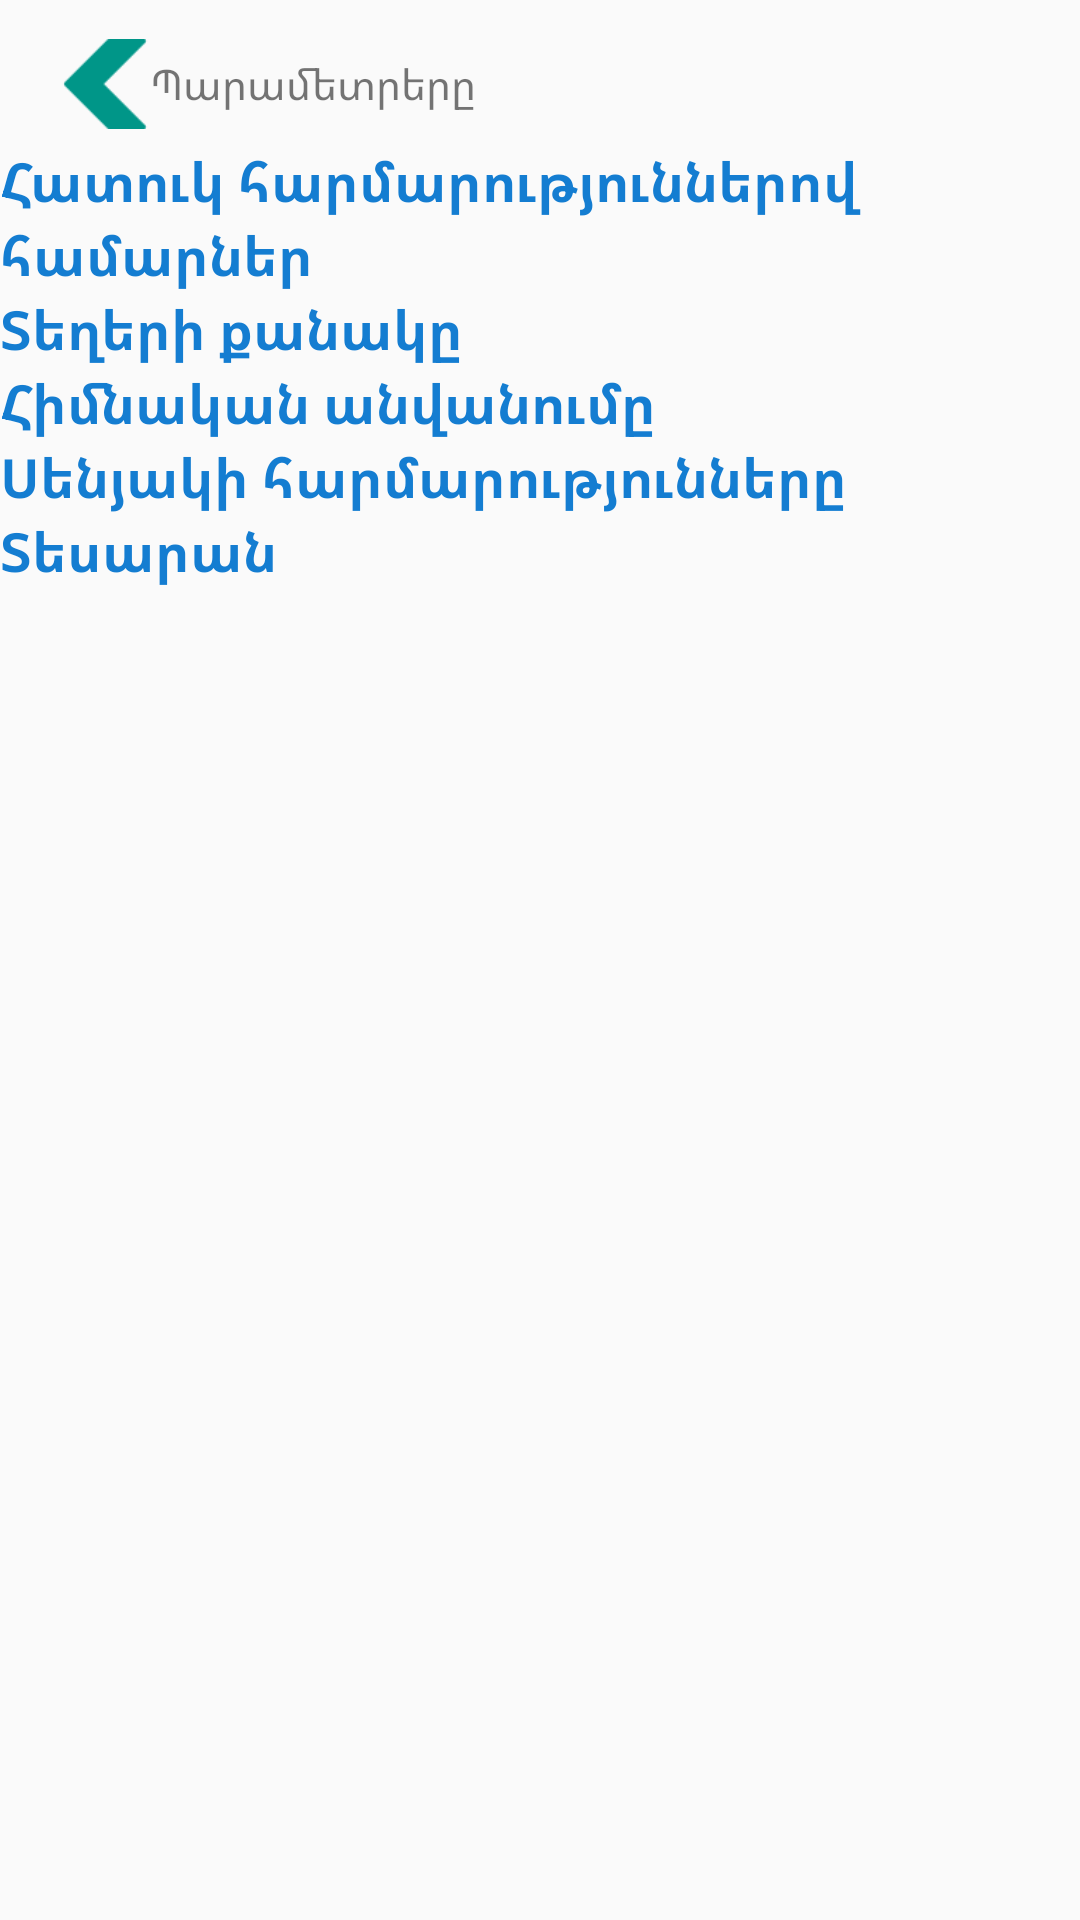

Icon click points for this 1080w x 1920h phone screenshot, format (x,y):
prev: (105,84)
